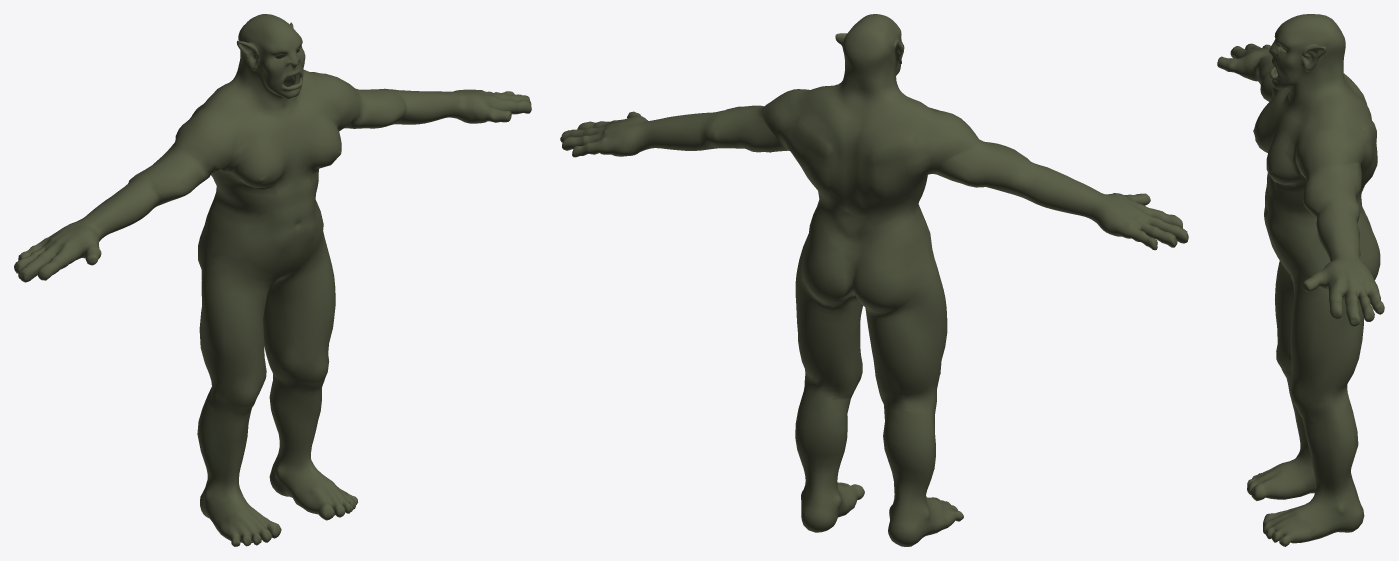
File: Ougraraha_scale.fbx
The picture shows the model from 3 angles, left to right: view 1: azimuth 30°, elevation 25°; view 2: azimuth 150°, elevation 25°; view 3: azimuth 270°, elevation 25°; orthographic projection. The views are drawn at different scales.
Parts seen in each view (by area): view 1: Ougroaha1; view 2: Ougroaha1; view 3: Ougroaha1.
Part boxes in pixels (x1,y1,x2,y2): Ougroaha1: [14, 14, 531, 546]; Ougroaha1: [560, 14, 1188, 546]; Ougroaha1: [1217, 14, 1384, 546].
Size of the model in its own units: 2.06 by 1.75 by 0.5326.
